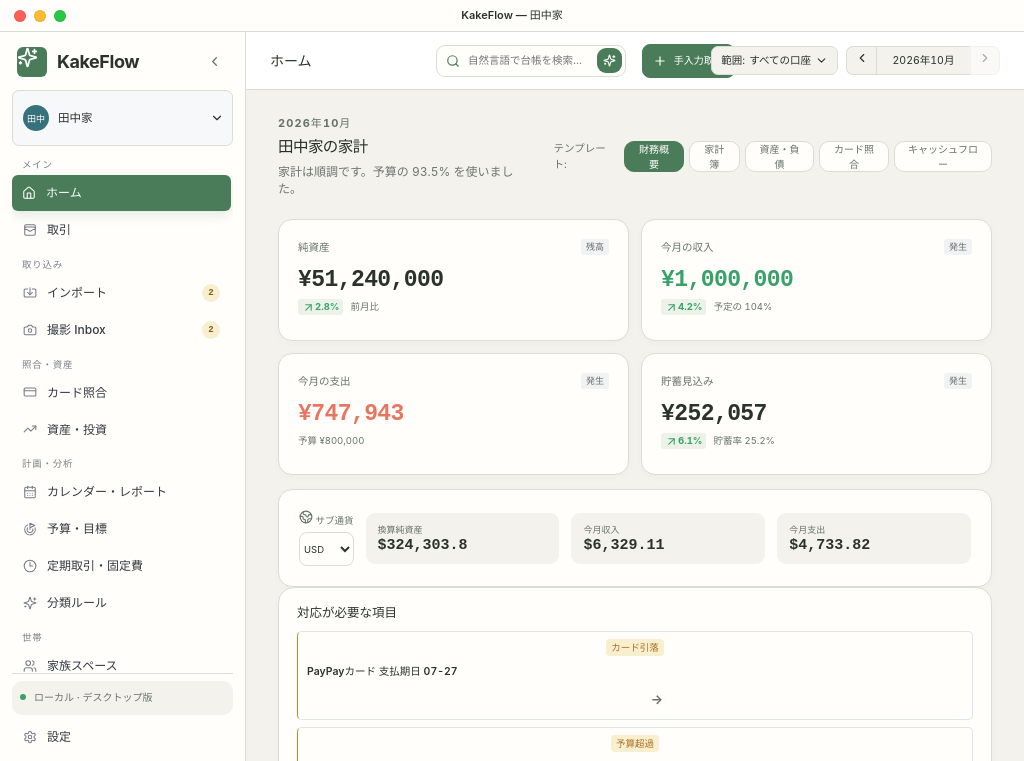
Test case: KakeFlow application shell › keeps encrypted backup controls desktop-only in browser preview
Step 1. Click the button "設定" → (122, 737), box [12,719,233,755]
(page scrolled)
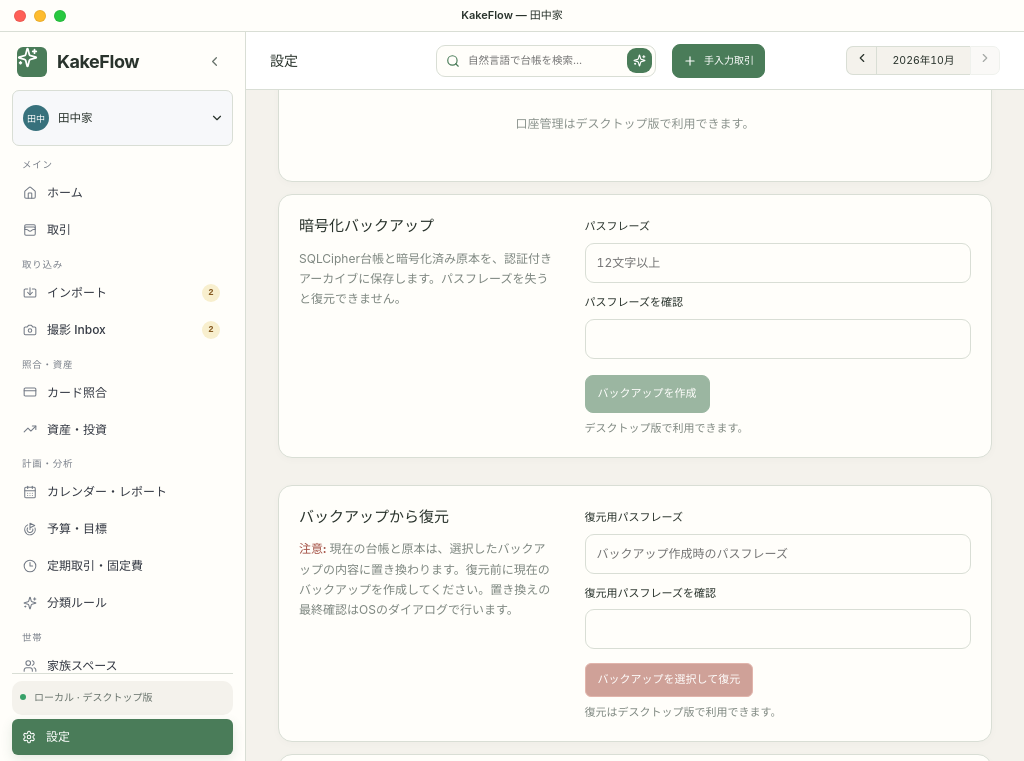
Expected: the button "バックアップを作成" is disabled, [585,375,710,413]
Expected: the text "デスクトップ版で利用できます。" is shown, [585,421,748,435]
